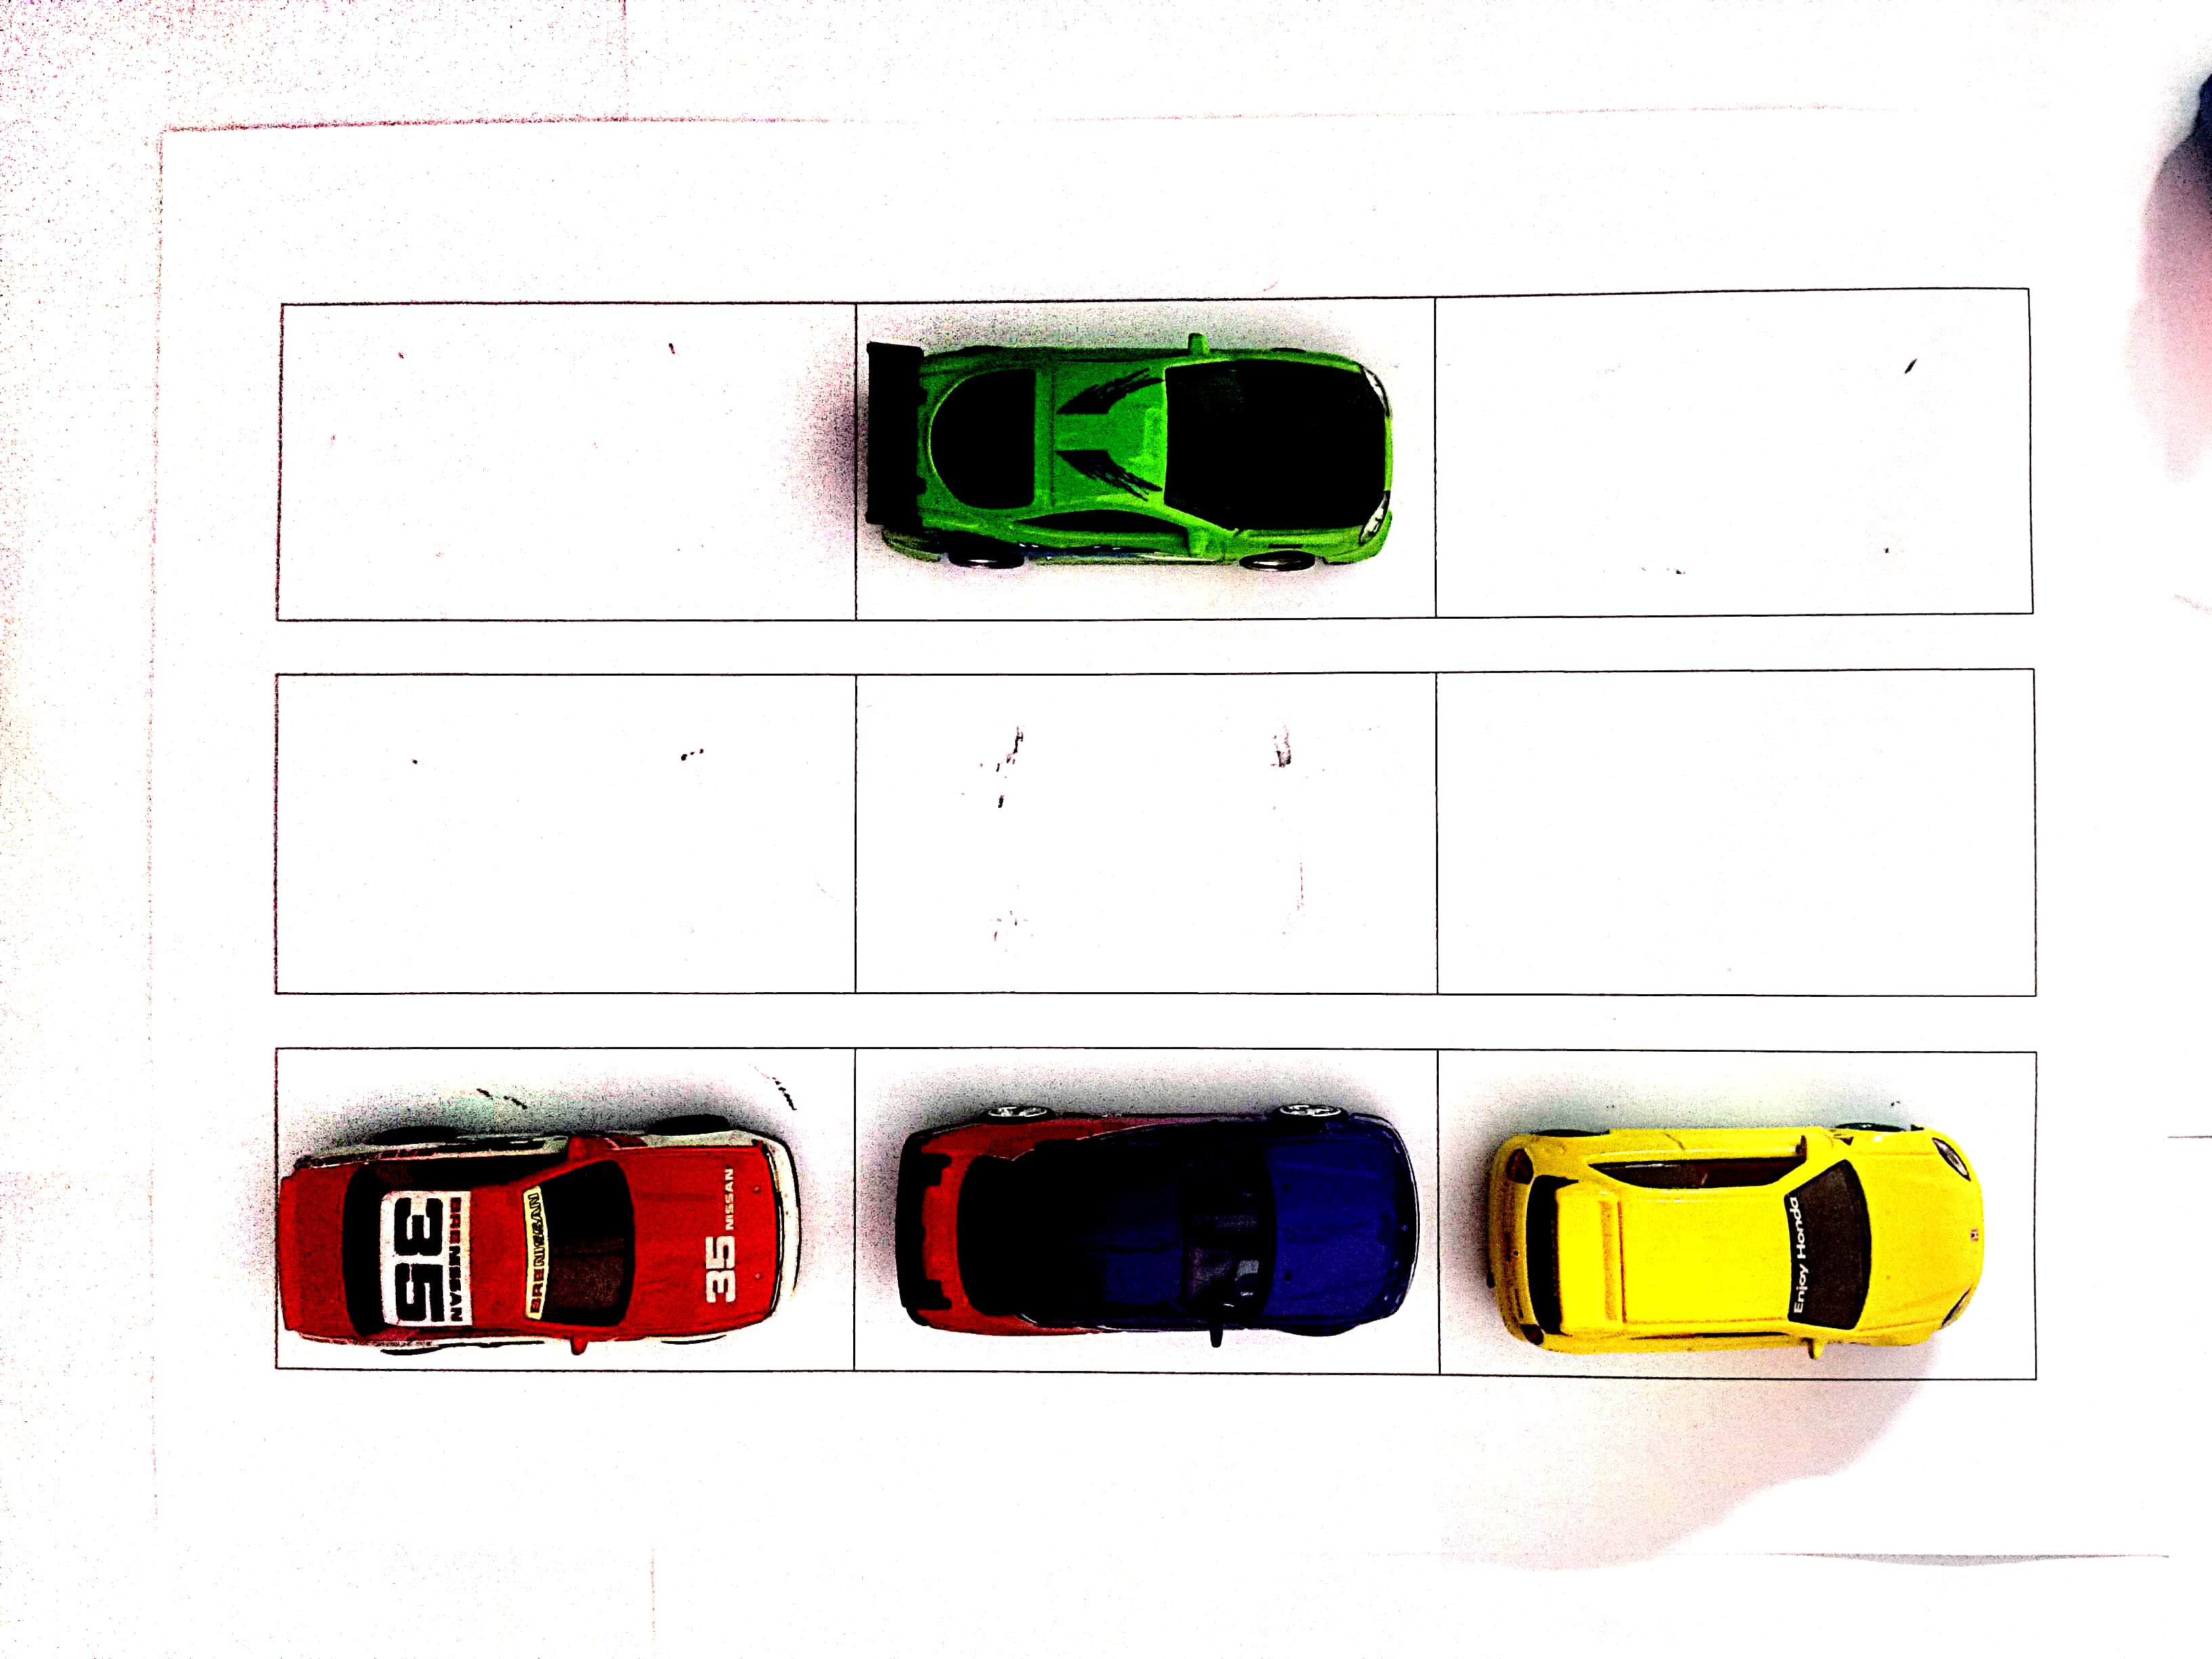Busy: (1442, 1046, 2033, 1378), (860, 1049, 1440, 1371), (277, 1049, 862, 1366), (860, 296, 1440, 615)
Free: (1446, 293, 2033, 615), (1442, 671, 2026, 992), (853, 671, 1432, 992), (277, 680, 857, 997), (279, 310, 853, 613)
